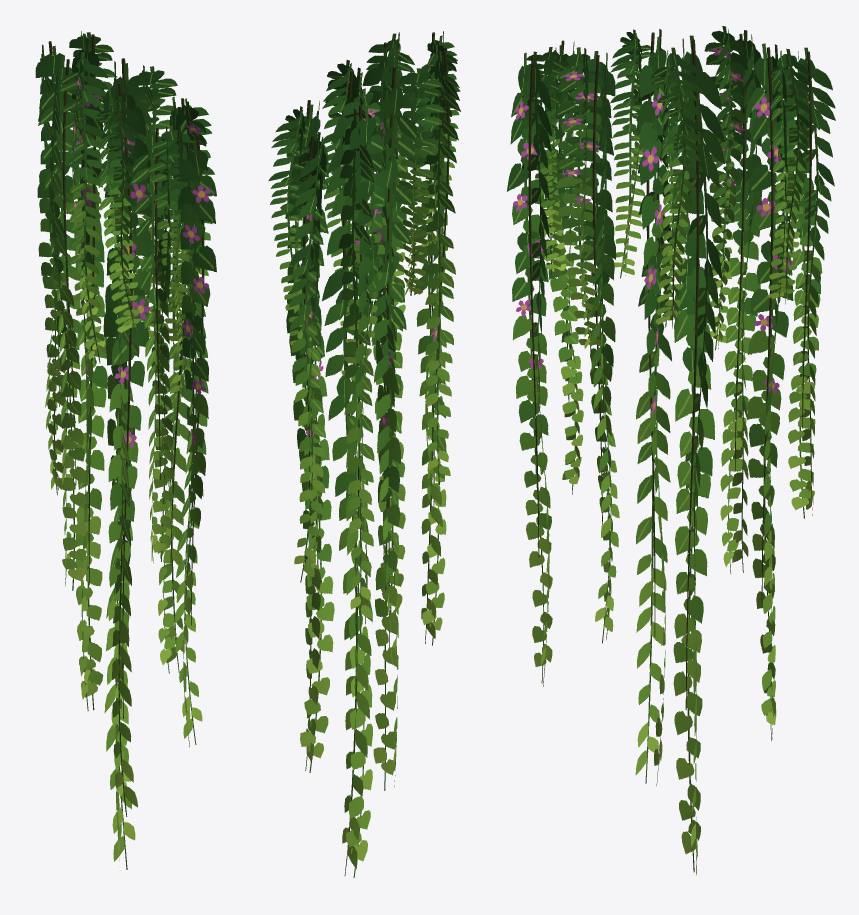
The picture shows the model from 3 angles, left to right: view 1: azimuth 30°, elevation 25°; view 2: azimuth 150°, elevation 25°; view 3: azimuth 270°, elevation 25°; orthographic projection. The views are drawn at different scales.
Parts seen in each view (by area): view 1: Mesh_VineLeaves, Mesh_VineStems; view 2: Mesh_VineLeaves, Mesh_VineStems; view 3: Mesh_VineLeaves, Mesh_VineStems.
Part boxes in pixels (left/top/right/bottom): Mesh_VineLeaves: left=35, top=31, right=216, bottom=869; Mesh_VineStems: left=48, top=34, right=204, bottom=718; Mesh_VineLeaves: left=268, top=31, right=460, bottom=877; Mesh_VineStems: left=302, top=32, right=449, bottom=708; Mesh_VineLeaves: left=507, top=26, right=835, bottom=875; Mesh_VineStems: left=528, top=32, right=812, bottom=709.
Size of the model in its own units: 1.13 by 7.52 by 2.77.
Materials: 2 (2 with a texture image).
